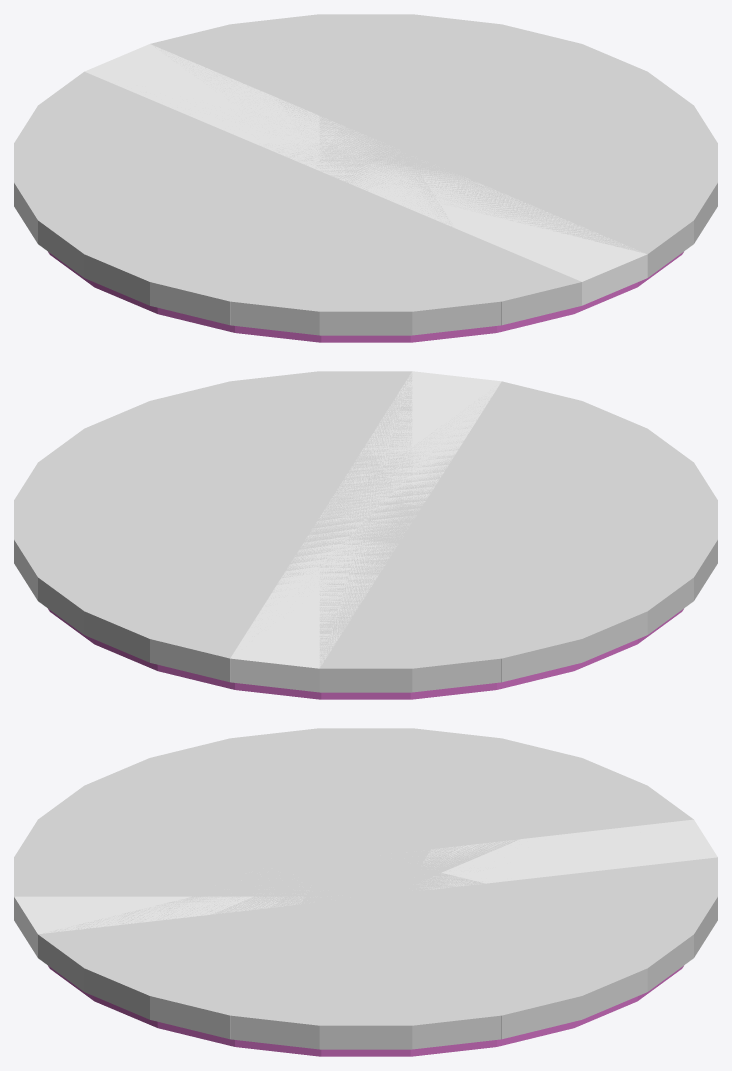
Rendered from osu.dae.
3 renders of one model, top to bottom at view 1: azimuth 30°, elevation 25°; view 2: azimuth 150°, elevation 25°; view 3: azimuth 270°, elevation 25°, orthographic.
Visible parts, largest first — view 1: Cube.011, Cube.003, Cube.005, Cube.008, Cube.002, Cube.010, Cube.001, Cube.004, Cube.007, Cube.006, Cube, Cube.009 (+5 smaller); view 2: Cube.011, Cube.005, Cube.010, Cube.006, Cube, Cube.008, Cube.009, Cube.001, Cube.003, Cube.004, Cube.002, Cube.007 (+5 smaller); view 3: Cube.007, Cube.003, Cube.009, Cube.005, Cube.011, Cube.008, Cube.002, Cube.006, Cube.010, Cube, Cube.001, Cube.004 (+5 smaller).
Part boxes in pixels (x1=…): Cube.011: x1=85, y1=44, x2=647, y2=305; Cube.003: x1=230, y1=14, x2=501, y2=335; Cube.005: x1=84, y1=44, x2=646, y2=305; Cube.008: x1=14, y1=143, x2=717, y2=182; Cube.002: x1=319, y1=14, x2=412, y2=335; Cube.010: x1=38, y1=71, x2=693, y2=277; Cube.001: x1=230, y1=14, x2=501, y2=335; Cube.004: x1=150, y1=24, x2=581, y2=325; Cube.007: x1=14, y1=105, x2=717, y2=243; Cube.006: x1=38, y1=71, x2=693, y2=277; Cube: x1=150, y1=24, x2=581, y2=325; Cube.009: x1=14, y1=105, x2=717, y2=243; Cube.011: x1=230, y1=371, x2=501, y2=692; Cube.005: x1=14, y1=462, x2=717, y2=600; Cube.010: x1=319, y1=371, x2=412, y2=692; Cube.006: x1=38, y1=428, x2=693, y2=634; Cube: x1=150, y1=381, x2=581, y2=682; Cube.008: x1=150, y1=381, x2=581, y2=682; Cube.009: x1=230, y1=371, x2=501, y2=692; Cube.001: x1=84, y1=401, x2=646, y2=662; Cube.003: x1=14, y1=462, x2=717, y2=600; Cube.004: x1=14, y1=500, x2=717, y2=539; Cube.002: x1=38, y1=428, x2=693, y2=634; Cube.007: x1=85, y1=401, x2=647, y2=662; Cube.007: x1=230, y1=728, x2=501, y2=1049; Cube.003: x1=85, y1=758, x2=647, y2=1019; Cube.009: x1=84, y1=758, x2=646, y2=1019; Cube.005: x1=230, y1=728, x2=501, y2=1049; Cube.011: x1=14, y1=819, x2=717, y2=957; Cube.008: x1=150, y1=738, x2=581, y2=1039; Cube.002: x1=38, y1=785, x2=693, y2=991; Cube.006: x1=319, y1=728, x2=412, y2=1049; Cube.010: x1=38, y1=785, x2=693, y2=991; Cube: x1=14, y1=857, x2=717, y2=896; Cube.001: x1=14, y1=819, x2=717, y2=957; Cube.004: x1=150, y1=738, x2=581, y2=1039.
Bounding box in the file's own units: 7.6 × 7.6 × 0.5416.
